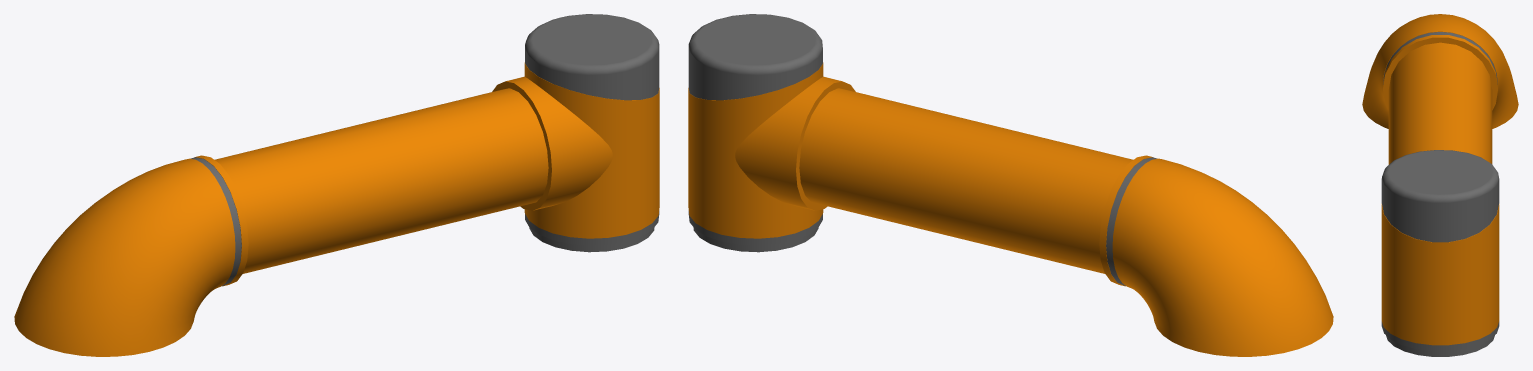
The picture shows the model from 3 angles, left to right: view 1: azimuth 30°, elevation 25°; view 2: azimuth 150°, elevation 25°; view 3: azimuth 270°, elevation 25°; orthographic projection. The views are drawn at different scales.
Parts seen in each view (by area): view 1: FBXASC195FBXASC135FBXASC195FBXASC144FBXASC194FBXASC179FBXASC; view 2: FBXASC195FBXASC135FBXASC195FBXASC144FBXASC194FBXASC179FBXASC; view 3: FBXASC195FBXASC135FBXASC195FBXASC144FBXASC194FBXASC179FBXASC.
Part boxes in pixels (x1,y1,x2,y2): FBXASC195FBXASC135FBXASC195FBXASC144FBXASC194FBXASC179FBXASC: [14, 14, 659, 356]; FBXASC195FBXASC135FBXASC195FBXASC144FBXASC194FBXASC179FBXASC: [688, 14, 1333, 356]; FBXASC195FBXASC135FBXASC195FBXASC144FBXASC194FBXASC179FBXASC: [1362, 14, 1518, 356].
Bounding box in the file's own units: 0.473 × 0.118 × 0.1345.
